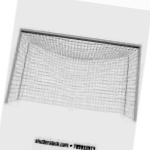goals: (3, 27, 142, 124)
